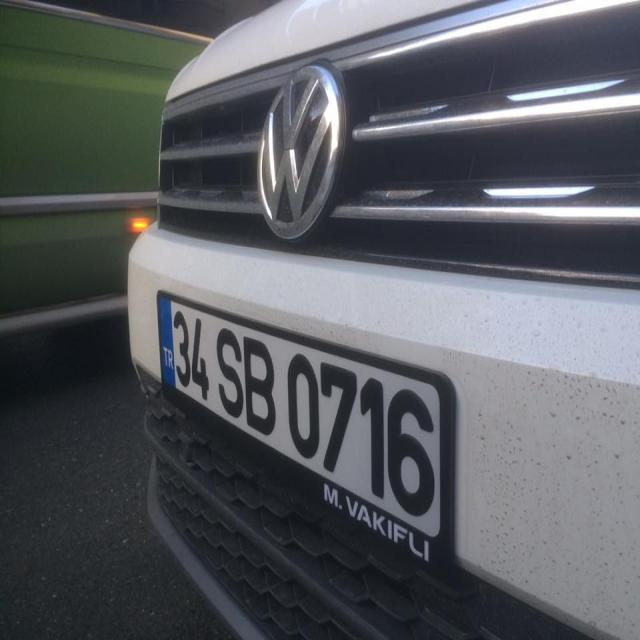plate: (160, 290, 459, 581)
